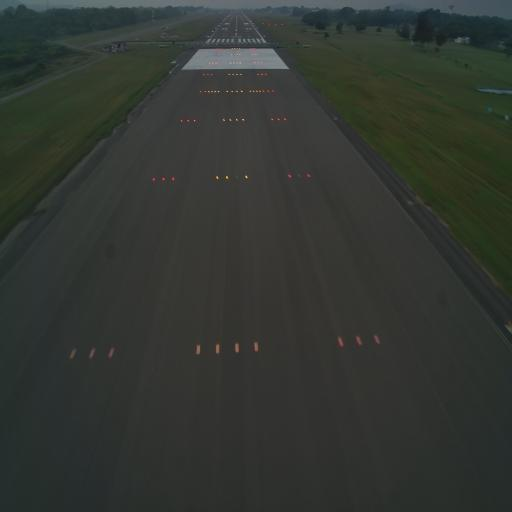off: (406, 196, 415, 209), (234, 172, 240, 184), (296, 172, 302, 182)
on: (354, 330, 366, 351), (229, 339, 242, 357), (106, 342, 117, 362), (192, 342, 204, 360), (211, 341, 223, 359), (250, 340, 262, 356), (372, 329, 382, 348), (68, 344, 78, 361), (335, 335, 345, 352), (88, 344, 97, 361), (244, 169, 250, 183), (223, 171, 230, 182), (306, 170, 312, 181), (150, 173, 155, 183), (170, 175, 176, 183), (161, 175, 166, 183), (215, 172, 219, 182), (287, 172, 292, 180)
